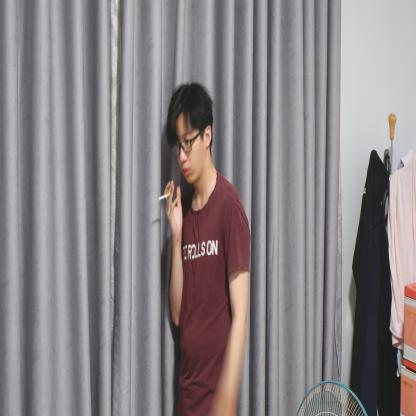cigarette: (156, 192, 172, 202)
person: (158, 77, 254, 416)
